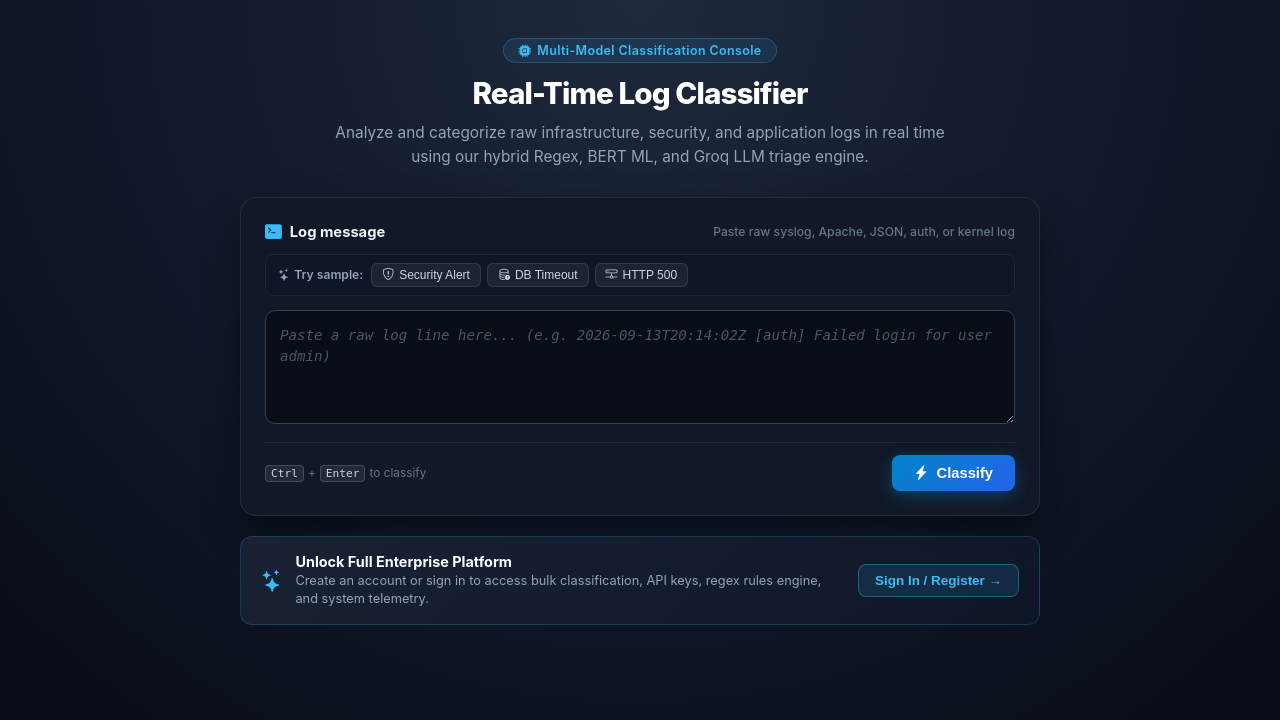
App integration (mocked API) › classifies a log and displays the result end to end within the component tree
Step 1. Type "Multiple login failures on user 9052" into the text box with test id "log-textarea" → (640, 367), box [265,310,1015,424]
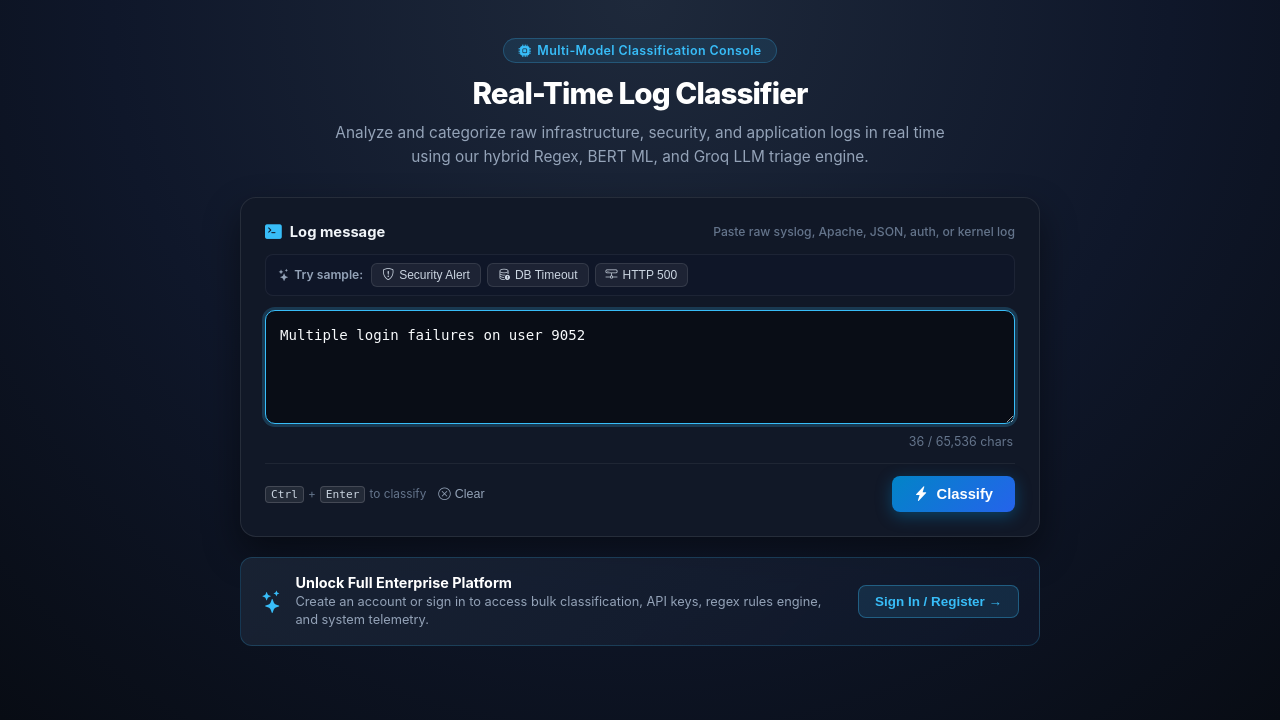
Step 2. Click the button with test id "classify-button" → (953, 494), box [892,476,1015,512]
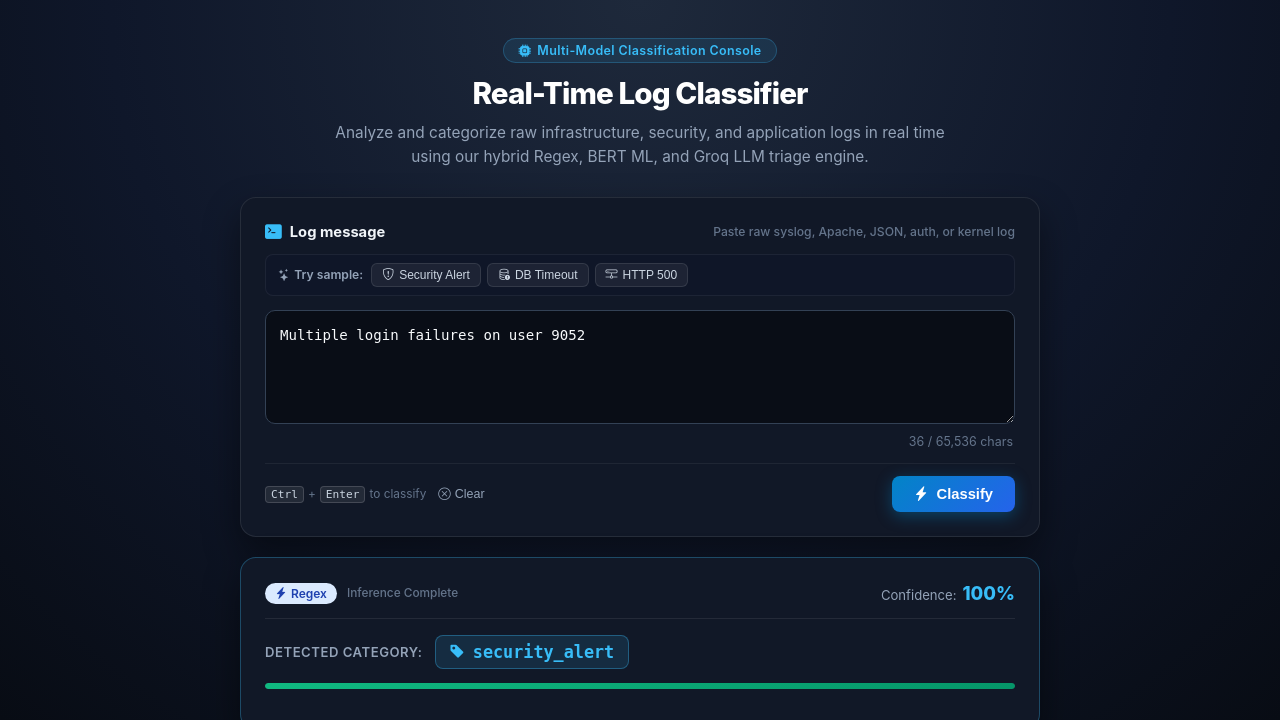
expect the element with test id "classification-result" is shown: met, box [240,557,1040,719]
expect the text with test id "result-label" reads "security_alert": met, box [473,642,614,662]
